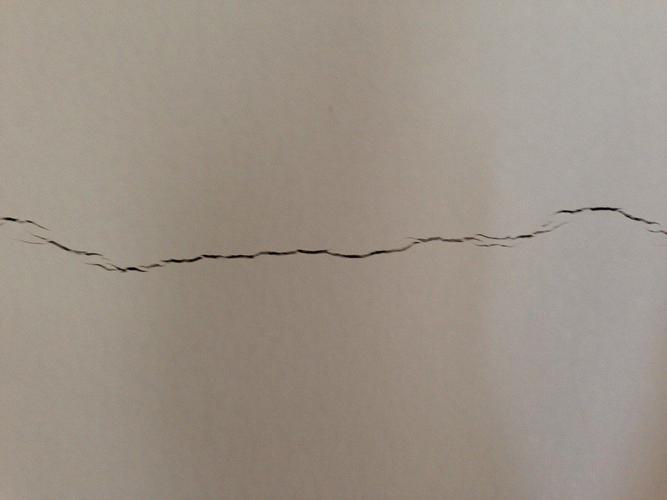Crack: (1, 204, 667, 273)
